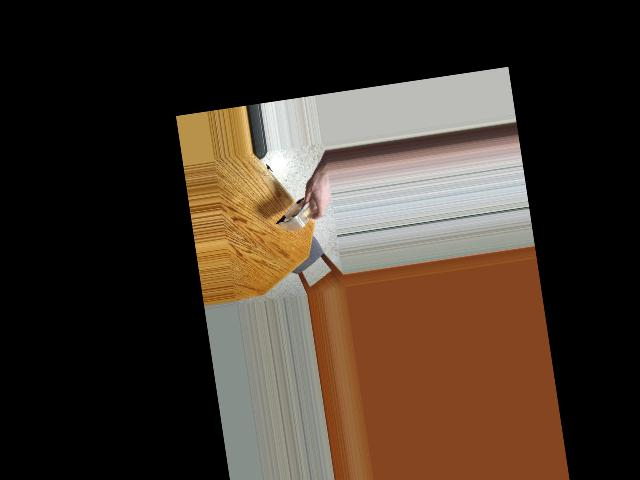cheese: (274, 179, 325, 238)
